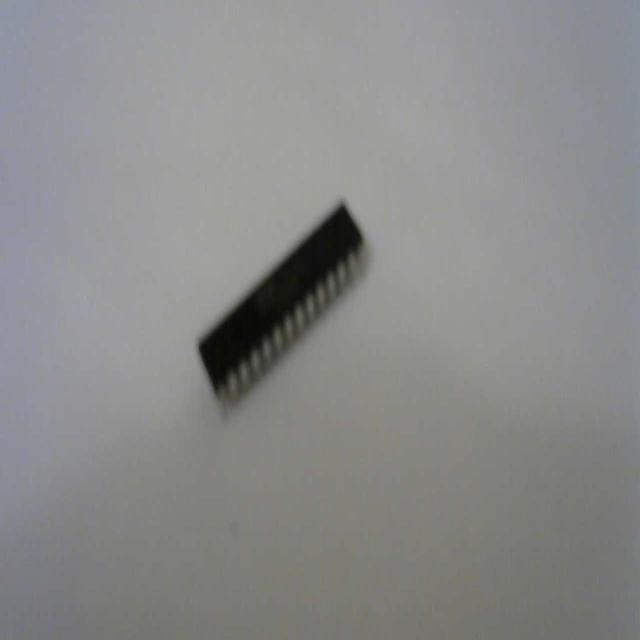atmega: (195, 194, 371, 413)
